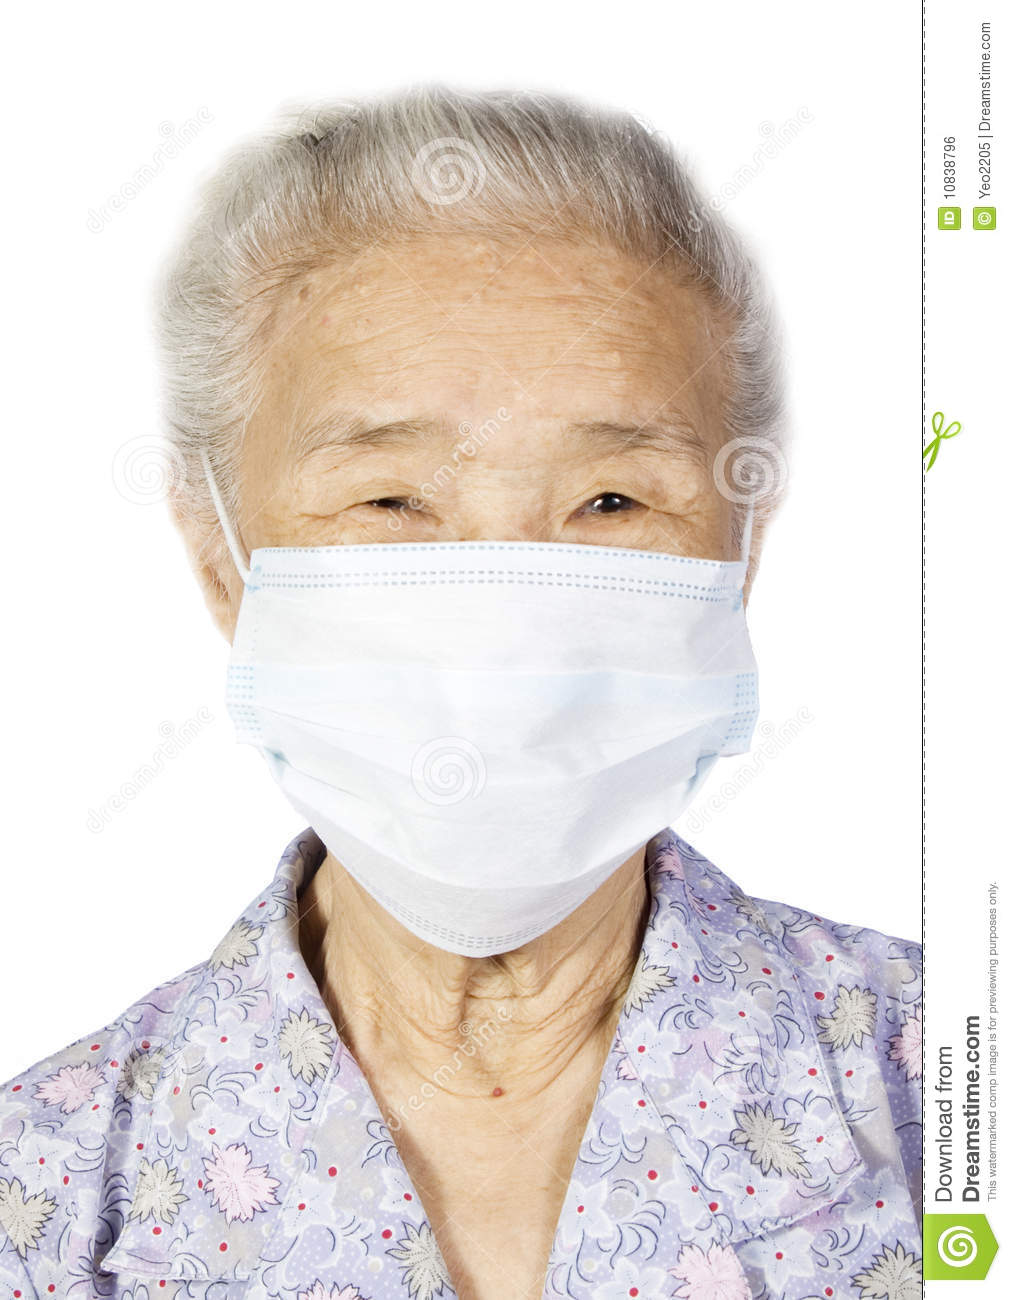mask: (236, 539, 759, 969)
